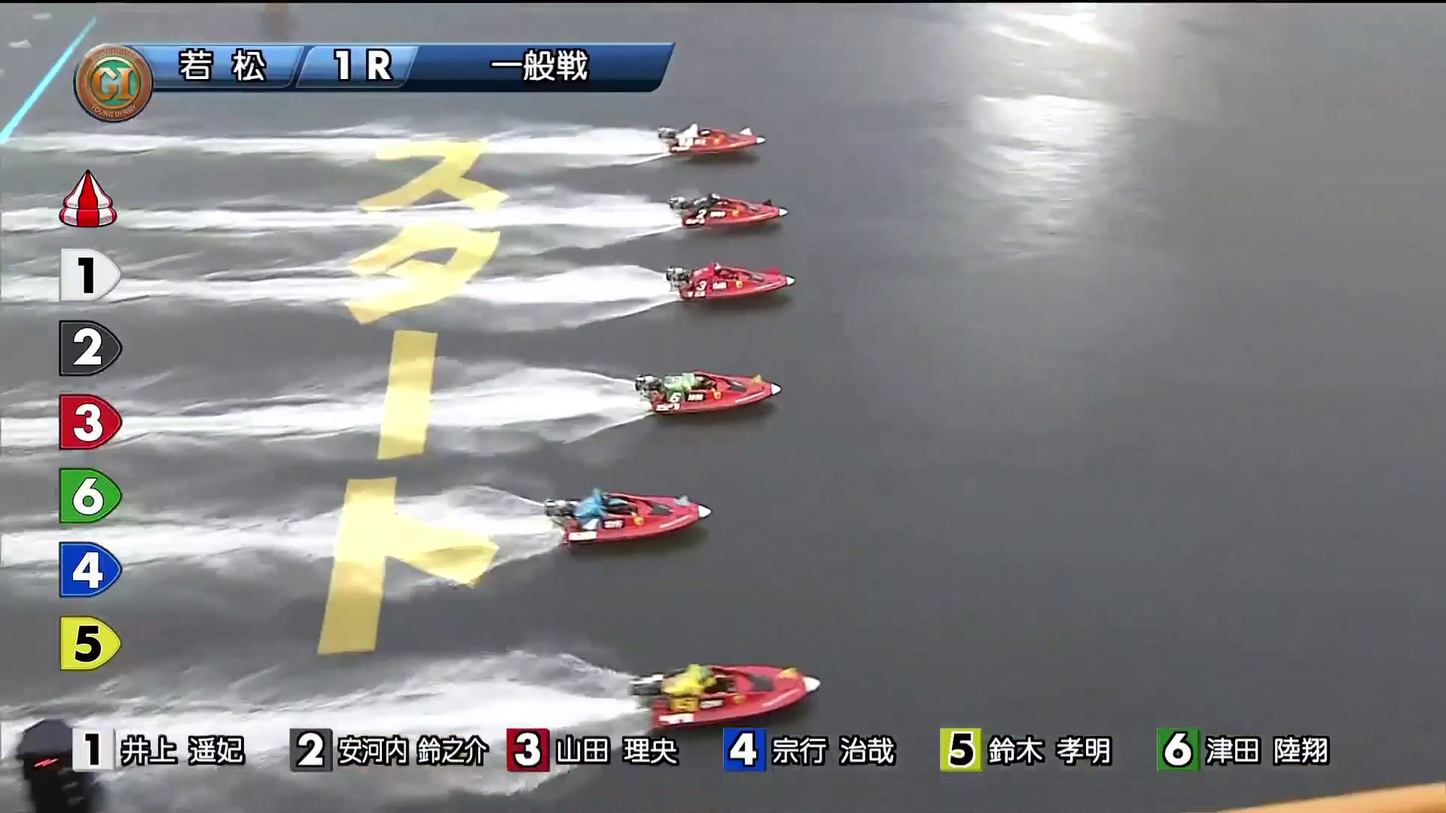１号艇: (693, 111, 751, 158)
２号艇: (678, 192, 781, 230)
３号艇: (678, 261, 803, 302)
４号艇: (671, 360, 776, 403)
５号艇: (574, 487, 694, 542)
６号艇: (642, 655, 799, 712)
